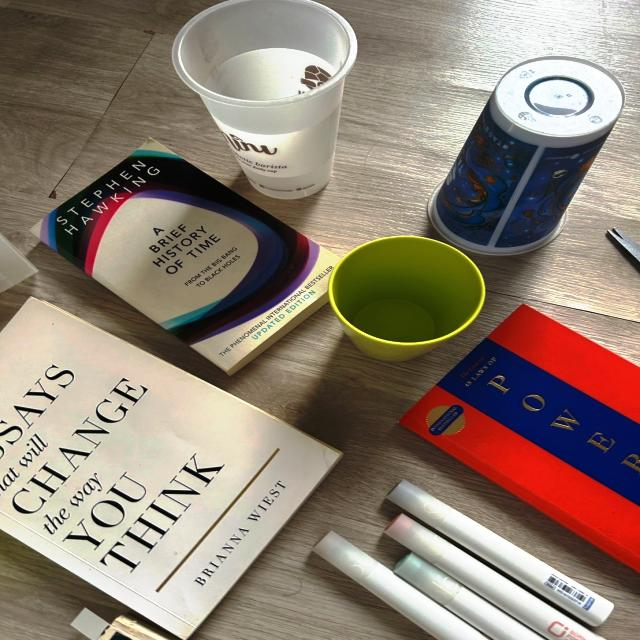Book: (0, 299, 340, 640), (30, 139, 344, 376), (400, 305, 639, 572), (71, 608, 177, 640)
HighLight Pen: (387, 481, 612, 624), (385, 512, 604, 640), (314, 532, 489, 640), (396, 555, 545, 640)
Plastic Cup: (429, 56, 626, 255), (172, 0, 357, 199), (0, 234, 38, 292)
Scissors: (607, 228, 639, 266)
WaterGlass: (329, 236, 485, 361)
